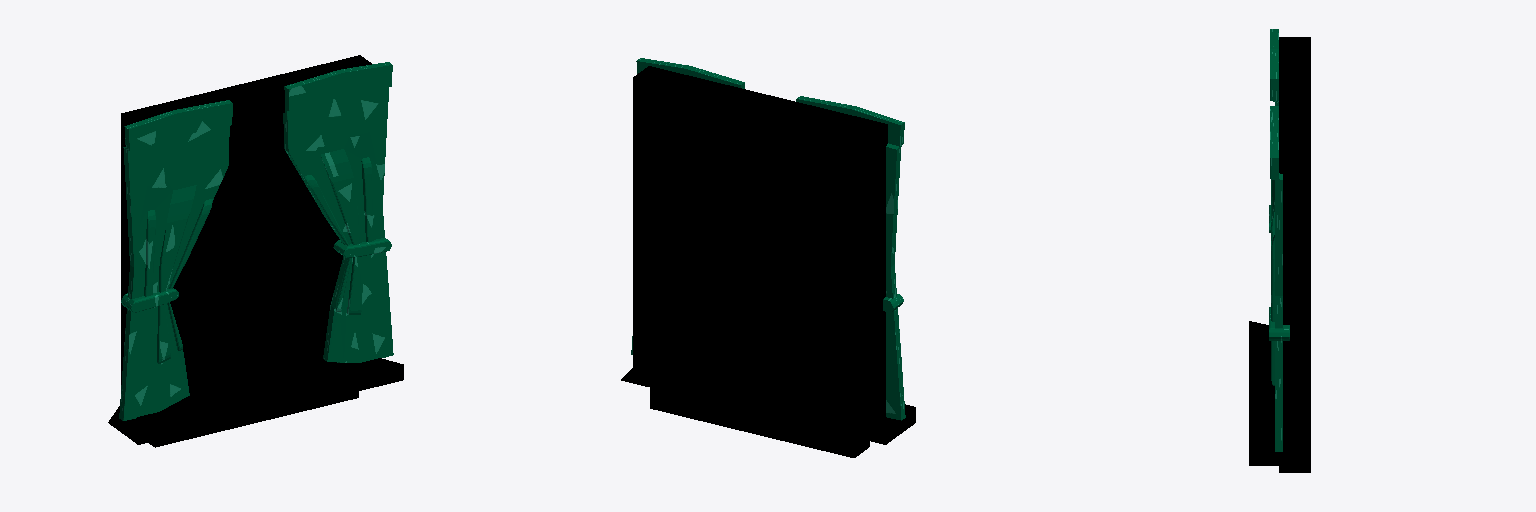
The picture shows the model from 3 angles: view 1: azimuth 30°, elevation 25°; view 2: azimuth 150°, elevation 25°; view 3: azimuth 270°, elevation 25°; orthographic projection.
Bounding box in the file's own units: 3.28 × 3.86 × 0.6419.
Materials: 3 (1 with a texture image).